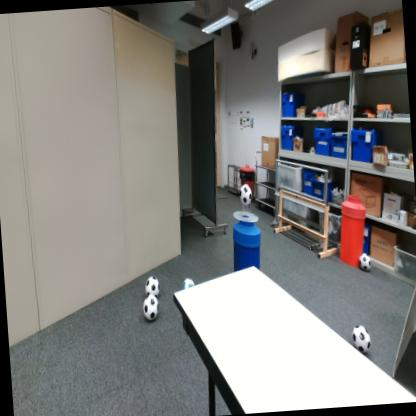ball: (352, 324, 372, 354), (143, 294, 160, 322), (146, 275, 160, 296), (240, 184, 251, 206), (360, 252, 372, 271), (182, 278, 194, 289)
